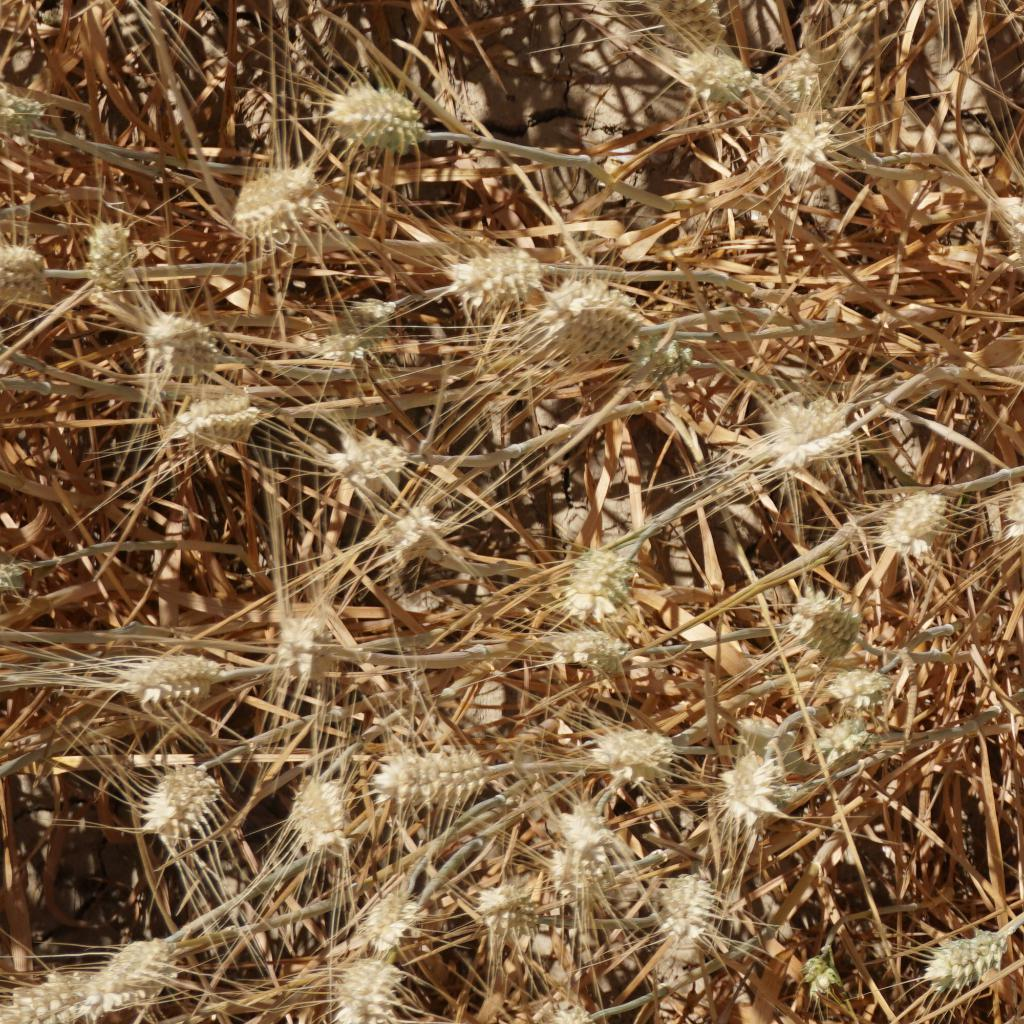0-0: (285, 276, 418, 394), (545, 793, 637, 911), (553, 547, 667, 628), (370, 734, 494, 807), (230, 159, 340, 240), (651, 874, 728, 988), (253, 600, 347, 691), (88, 929, 186, 1014), (128, 301, 228, 384), (763, 397, 864, 478), (584, 710, 693, 785), (866, 480, 963, 563), (313, 74, 417, 149), (775, 577, 862, 657), (553, 283, 644, 358), (159, 377, 249, 451), (545, 610, 633, 685), (451, 244, 549, 311), (149, 756, 222, 844), (125, 637, 218, 705), (765, 110, 848, 181), (305, 429, 405, 486), (673, 39, 754, 108), (356, 878, 431, 951), (707, 752, 789, 817), (0, 234, 65, 313), (734, 697, 815, 756), (287, 768, 358, 835), (82, 228, 157, 291), (929, 927, 1012, 982), (768, 41, 837, 106), (618, 0, 718, 43), (831, 651, 906, 707), (372, 500, 444, 557), (340, 961, 403, 1024), (640, 324, 703, 387), (818, 709, 880, 772), (534, 981, 619, 1024), (0, 90, 71, 141), (427, 70, 496, 121), (472, 874, 525, 937), (19, 965, 82, 1017), (787, 951, 846, 1002), (0, 536, 35, 598), (996, 200, 1024, 273), (1000, 466, 1024, 525)
